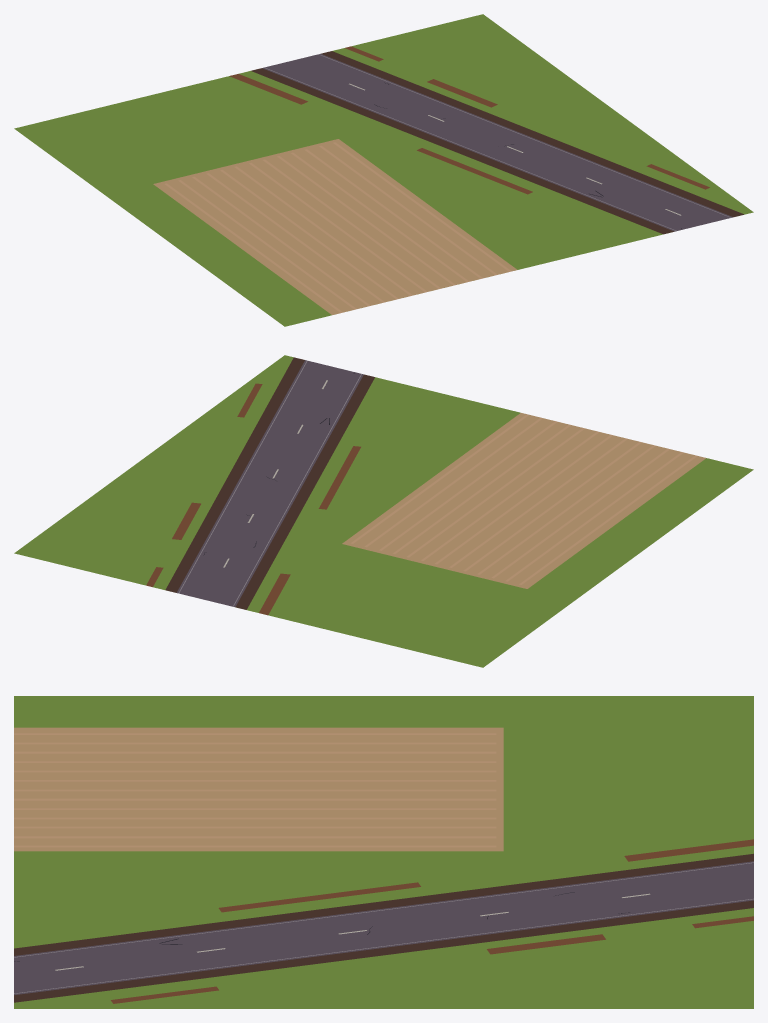
Rendered from crossing-9-1.glb.
The picture shows the model from 3 angles, top to bottom: view 1: azimuth 30°, elevation 25°; view 2: azimuth 150°, elevation 25°; view 3: azimuth 270°, elevation 25°; orthographic projection. The views are drawn at different scales.
Parts seen in each view (by area): view 1: crossing-9-1; view 2: crossing-9-1; view 3: crossing-9-1.
Boxes of the visible parts, x1,y1,x2,y2 form: crossing-9-1: (14, 14, 753, 326); crossing-9-1: (14, 355, 753, 667); crossing-9-1: (14, 696, 753, 1008).
Bounding box in the file's own units: 100 × 0.0145 × 100.
